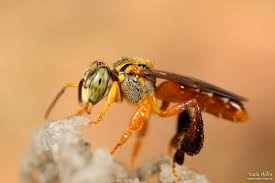jataí: (34, 51, 258, 183)
